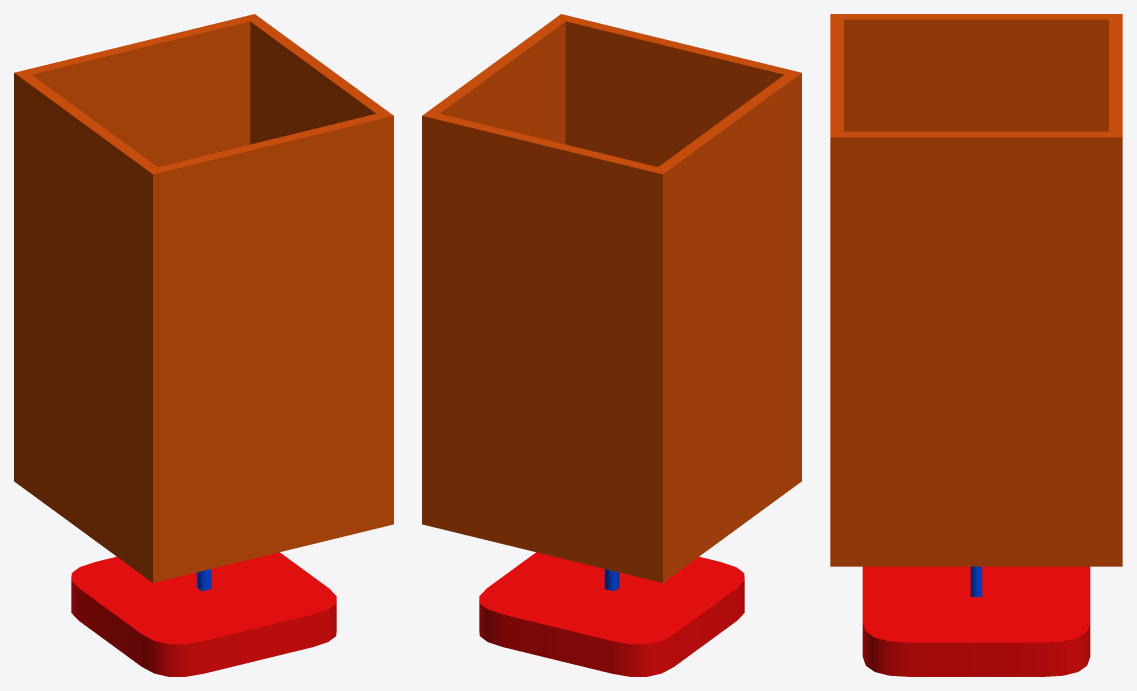
File: BedsideLamp.fbx
3 views of the same model, side by side, from view 1: azimuth 30°, elevation 25°; view 2: azimuth 150°, elevation 25°; view 3: azimuth 270°, elevation 25° (orthographic). The views are drawn at different scales.
Parts seen in each view (by area): view 1: BedsideLamp_001; view 2: BedsideLamp_001; view 3: BedsideLamp_001.
Boxes of the visible parts, box(x1,y1,x2,y2) form: BedsideLamp_001: box(14, 14, 393, 676); BedsideLamp_001: box(422, 14, 801, 676); BedsideLamp_001: box(830, 14, 1122, 676).
Bounding box in the file's own units: 15.41 × 32.22 × 15.41.
